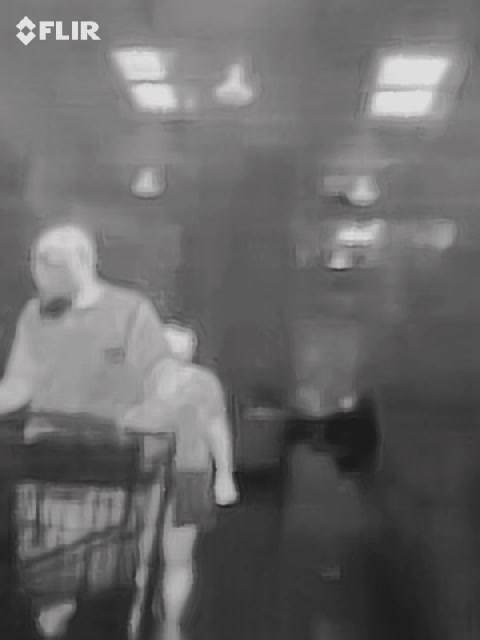head: (31, 225, 98, 306)
